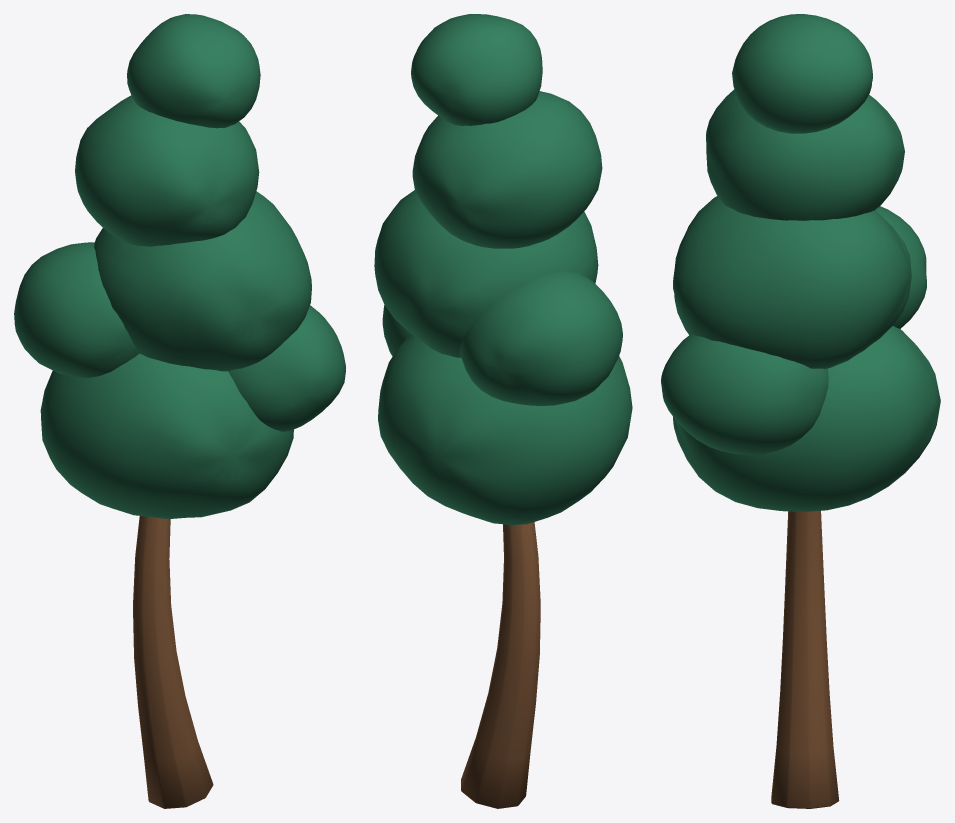
The model's file is tree_b.glb.
3 renders of one model, left to right at view 1: azimuth 30°, elevation 25°; view 2: azimuth 150°, elevation 25°; view 3: azimuth 270°, elevation 25°, orthographic. The views are drawn at different scales.
Parts seen in each view (by area): view 1: Tree_B_Crown, Tree_B_Trunk; view 2: Tree_B_Crown, Tree_B_Trunk; view 3: Tree_B_Crown, Tree_B_Trunk.
Part boxes in pixels (left/top/right/bottom): Tree_B_Crown: left=14, top=14, right=345, bottom=519; Tree_B_Trunk: left=133, top=516, right=213, bottom=808; Tree_B_Crown: left=374, top=14, right=632, bottom=524; Tree_B_Trunk: left=461, top=522, right=540, bottom=808; Tree_B_Crown: left=661, top=14, right=940, bottom=511; Tree_B_Trunk: left=771, top=510, right=839, bottom=808.
Size of the model in its own units: 2.29 by 6.43 by 2.05.
